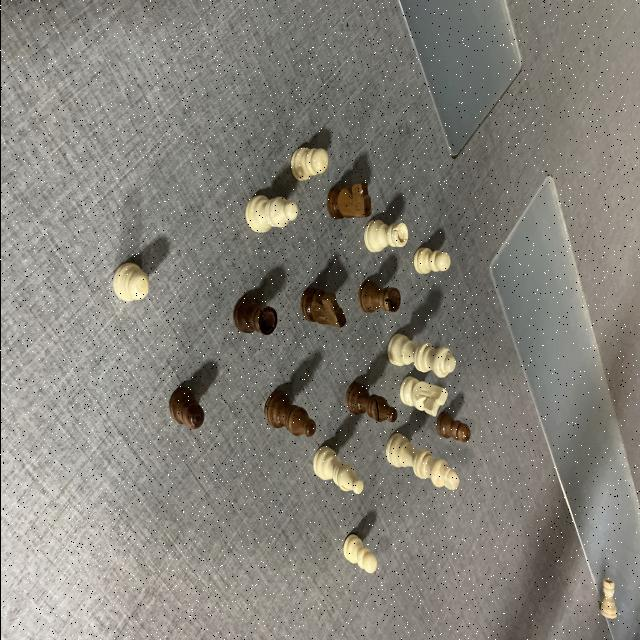Black-Bishop: (264, 393, 316, 438), (345, 382, 396, 422)
Black-Knight: (300, 286, 346, 330), (326, 183, 371, 219)
Black-Pawn: (169, 390, 203, 430), (436, 416, 472, 446)
Black-Rook: (358, 280, 398, 318), (235, 301, 277, 335)
White-Bishop: (312, 447, 363, 493), (244, 195, 298, 233)
White-King: (384, 432, 458, 492)
White-Knight: (401, 376, 447, 420)
White-Pawn: (112, 262, 148, 304), (342, 534, 376, 576), (290, 146, 328, 182), (414, 248, 449, 274)
White-Queen: (386, 332, 455, 380)
White-Rook: (364, 219, 406, 255), (598, 576, 616, 622)
